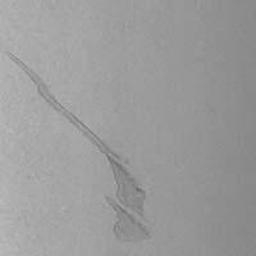Water spot: (5, 50, 154, 243)
